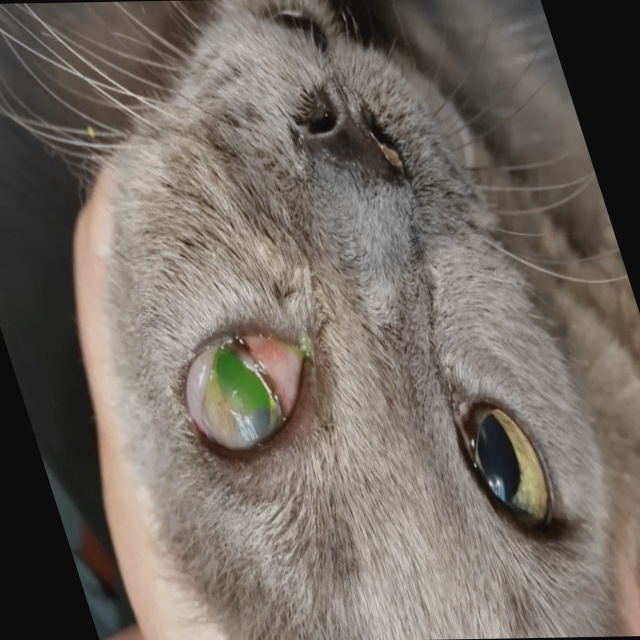eye_infection: (166, 346, 328, 460), (444, 391, 568, 537)
